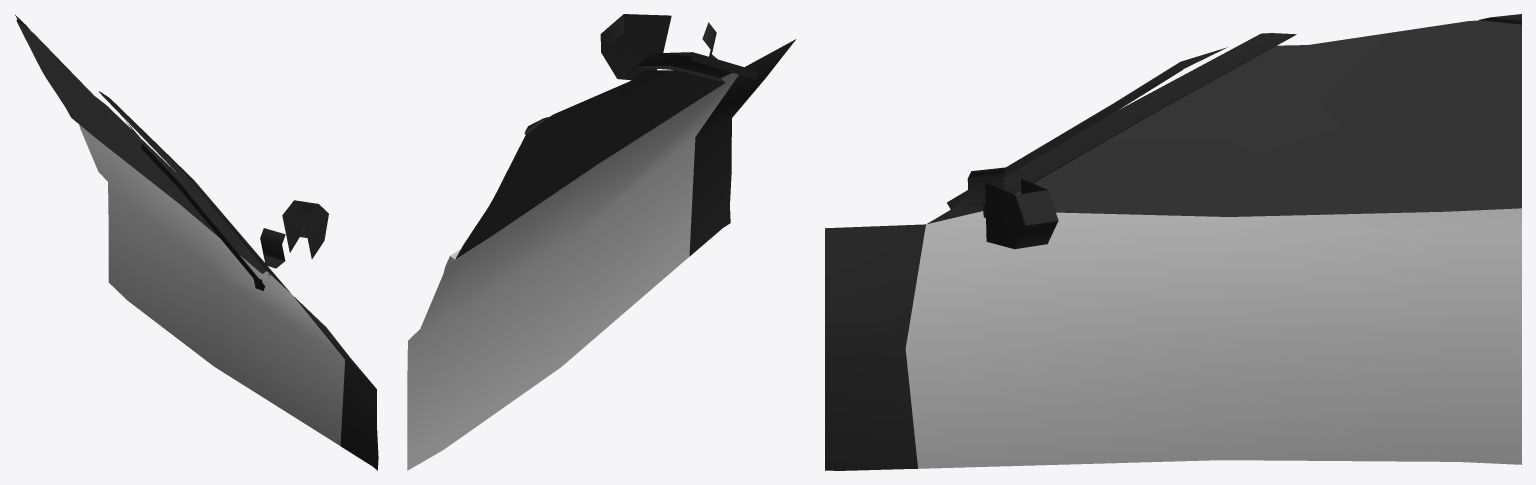
Rendered from police-right.glb.
3 views of the same model, side by side, from view 1: azimuth 30°, elevation 25°; view 2: azimuth 150°, elevation 25°; view 3: azimuth 270°, elevation 25° (orthographic). The views are drawn at different scales.
Size of the model in its own units: 0.32 by 0.6903 by 1.12.
Materials: 1 (1 with a texture image).
